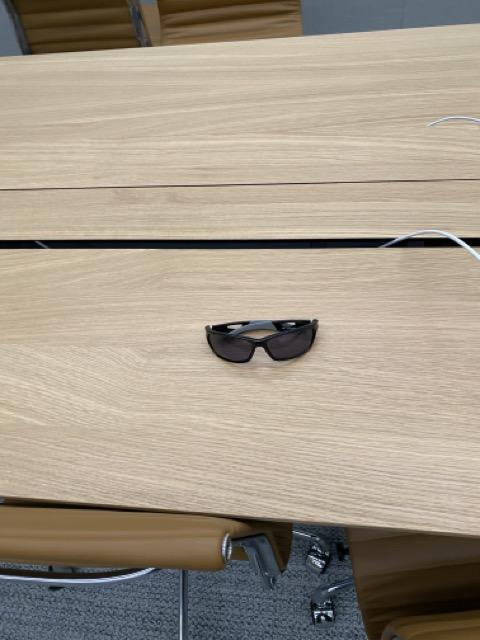Sunglasses: (205, 317, 319, 364)
